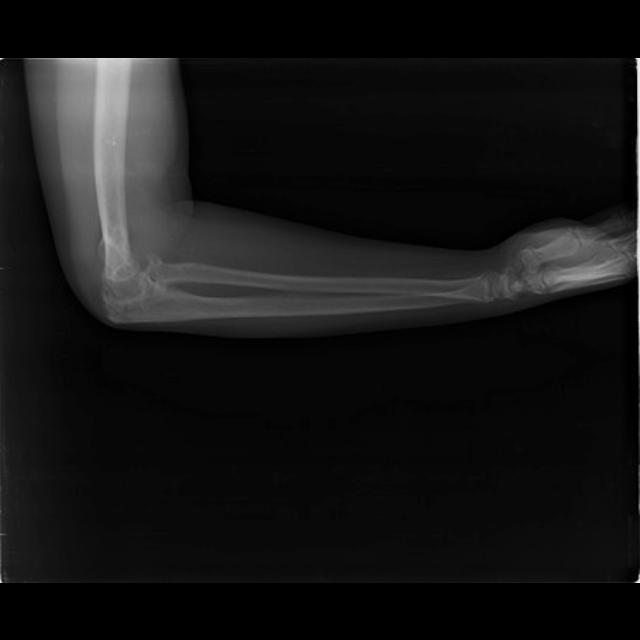Fracture: (130, 250, 170, 300)
